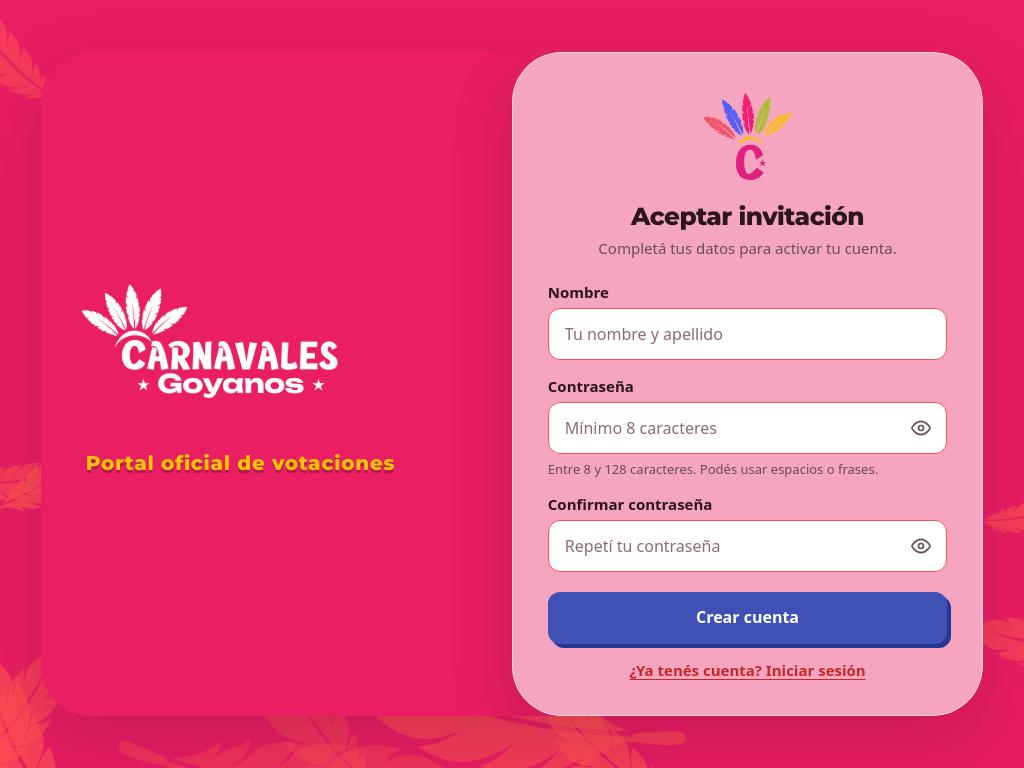
Test case: AceptarInvitacion › muestra el error de la API y limpia los campos de contraseña cuando el enlace falló
The image size is (1024, 768).
Step 1. Type "Ana Pérez" into the field labelled "Nombre" → (748, 334), box [548,308,947,360]
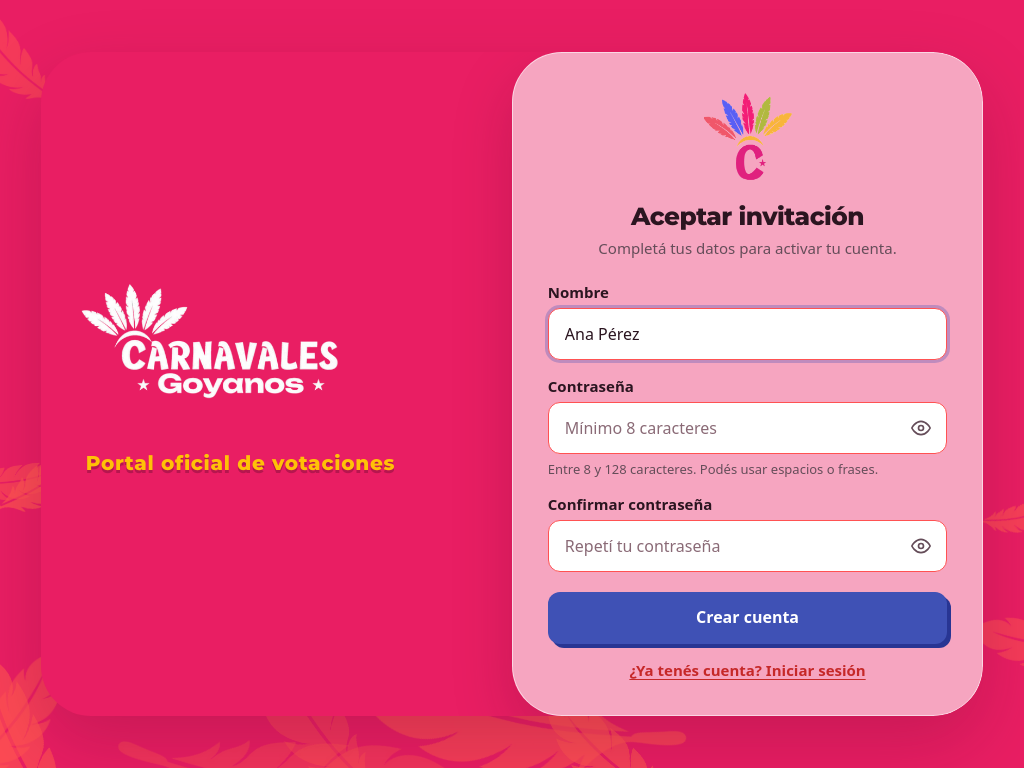
Step 2. Type "clave-valida-123" into the password field labelled "Contraseña" → (748, 428), box [548,402,947,454]
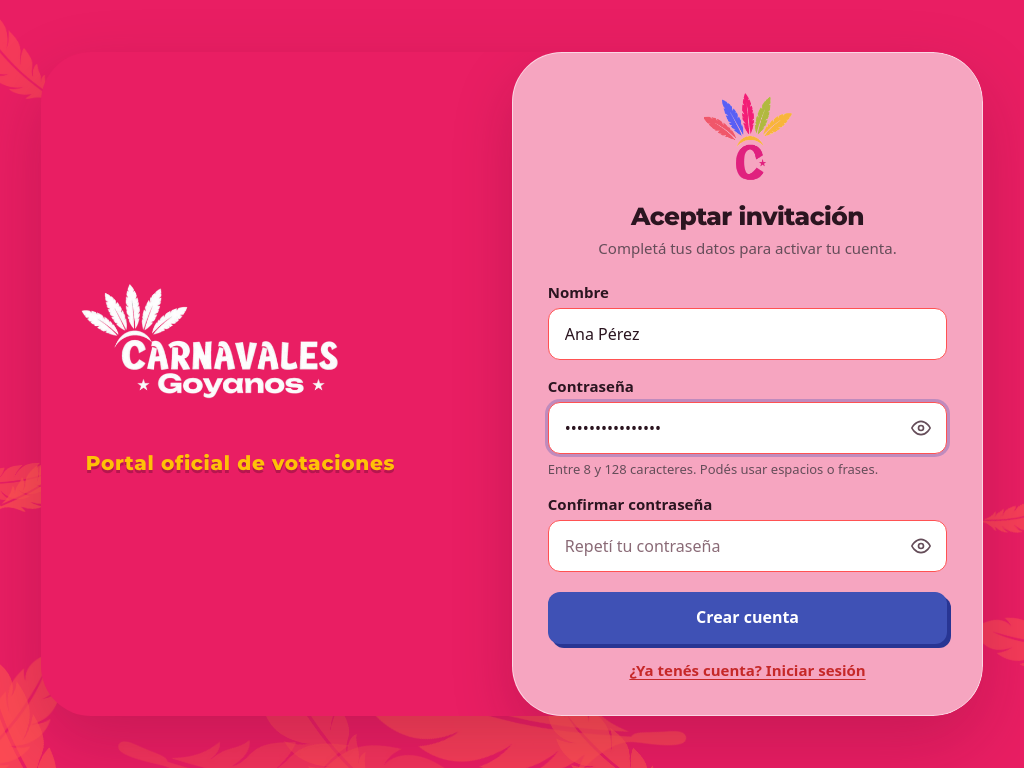
Step 3. Type "clave-valida-123" into the password field labelled "Confirmar contraseña" → (748, 546), box [548,520,947,572]
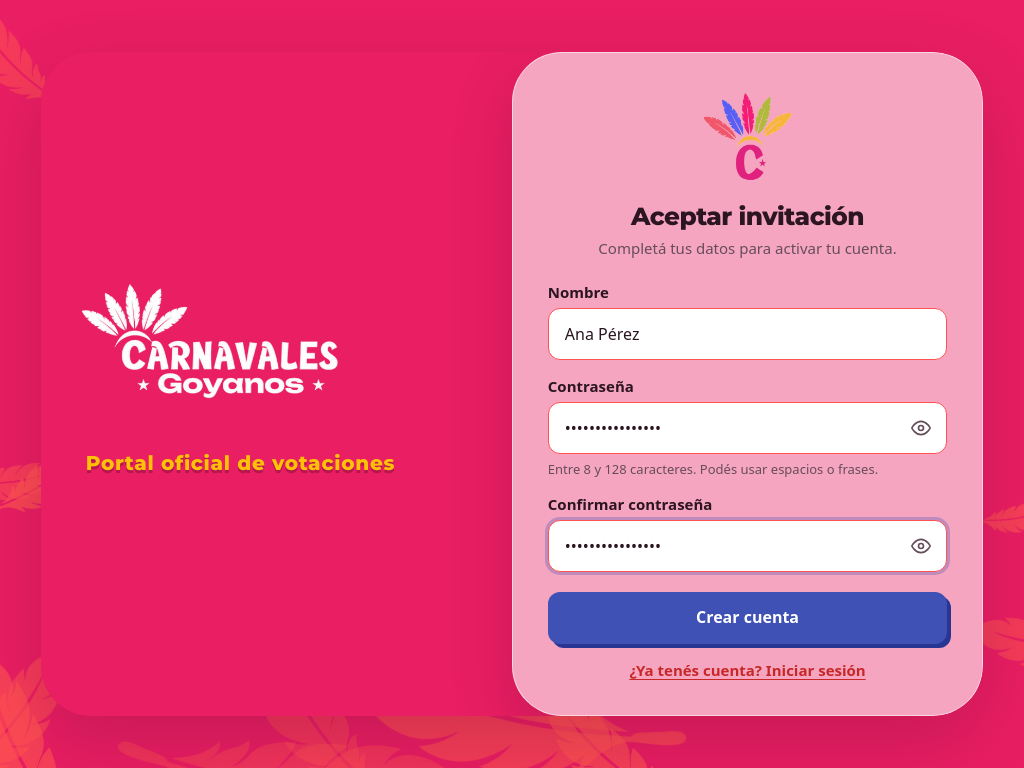
Step 4. Click the button "Crear cuenta" → (748, 618), box [548,592,947,644]
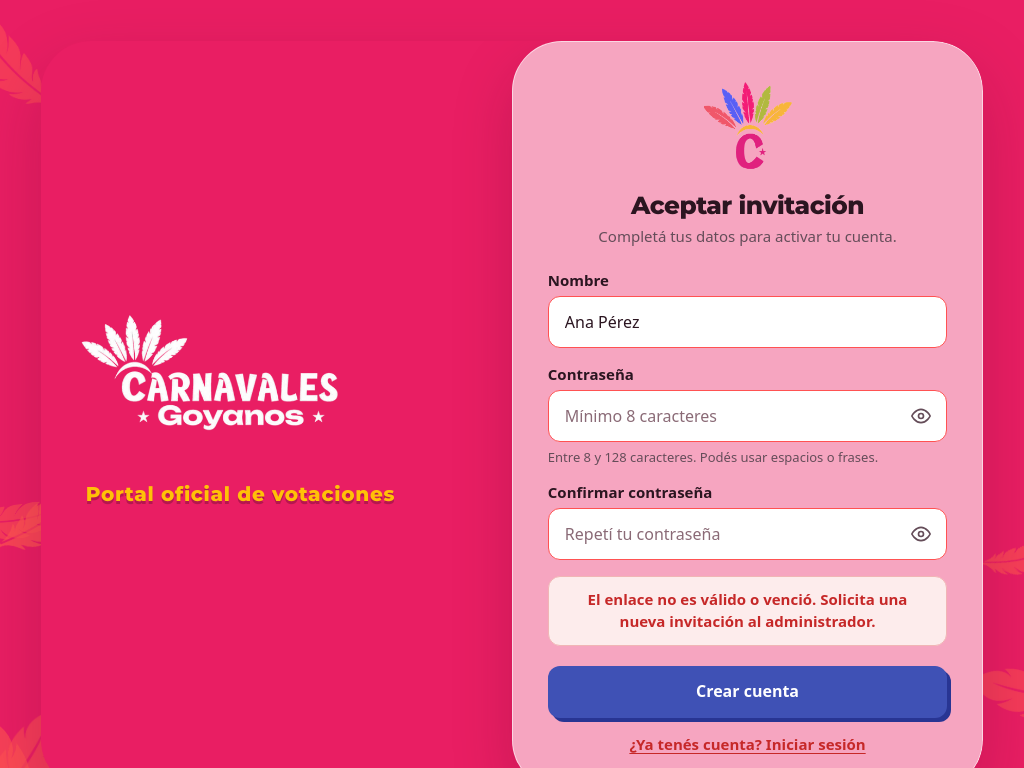
Expected: the message reads "El enlace no es válido o venció. Solicita una nueva invitación al administrador.", [588,589,907,631]
Expected: the password field labelled "Contraseña" is empty, [548,390,947,442]
Expected: the password field labelled "Confirmar contraseña" is empty, [548,508,947,560]
